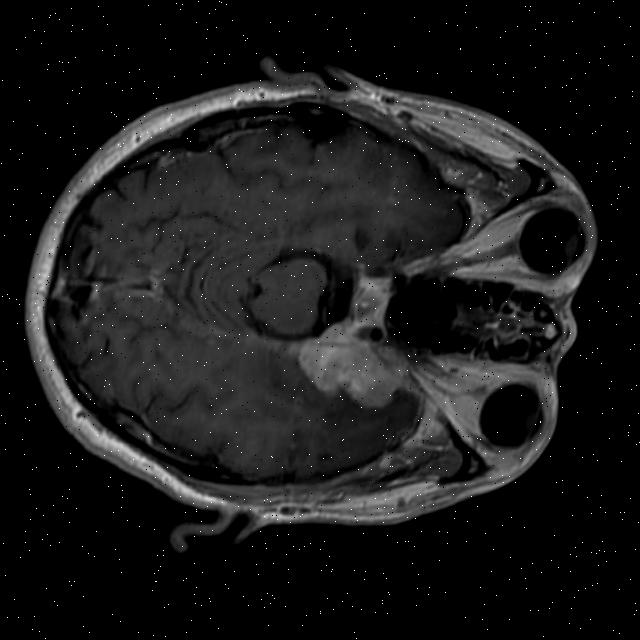Meningioma: (289, 323, 414, 418)
Pituitary: (346, 285, 395, 325)
